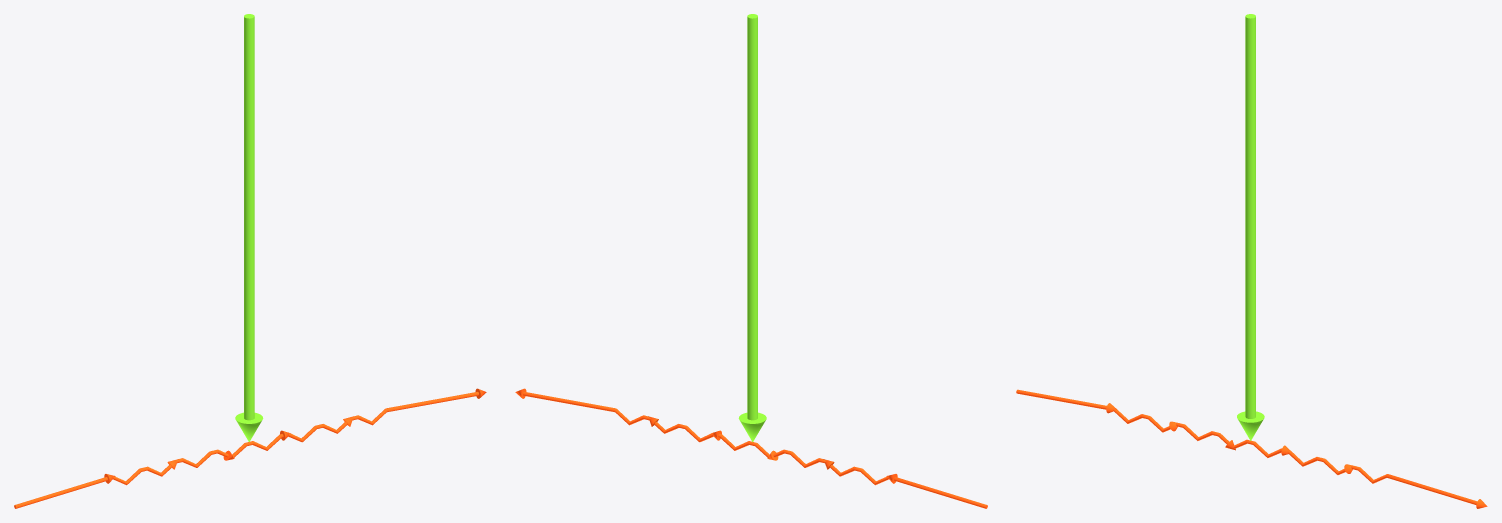
Rendered from labyrinth_seal_flow.glb.
3 views of the same model, side by side, from view 1: azimuth 30°, elevation 25°; view 2: azimuth 150°, elevation 25°; view 3: azimuth 330°, elevation 25° (orthographic).
Visible parts, largest first — view 1: buffer_gas, leakage.001; view 2: buffer_gas, leakage.001; view 3: buffer_gas, leakage.001.
Part boxes in pixels (<box>): buffer_gas: <box>235,14,263,441</box>; leakage.001: <box>14,388,486,508</box>; buffer_gas: <box>738,14,766,441</box>; leakage.001: <box>515,388,987,508</box>; buffer_gas: <box>1237,14,1264,440</box>; leakage.001: <box>1016,389,1487,508</box>.
Bounding box in the file's own units: 0.4031 × 0.3584 × 0.0208.
